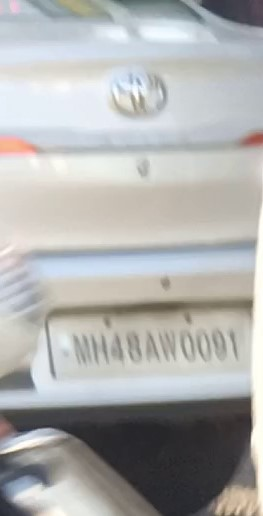MH48AW0091: (46, 301, 256, 381)
